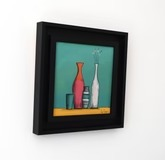painting: (33, 21, 128, 135)
